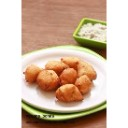bonda: (57, 84, 84, 104), (38, 68, 60, 91), (78, 57, 100, 79), (76, 75, 92, 94), (24, 64, 39, 83), (60, 67, 78, 82), (46, 61, 68, 72)
